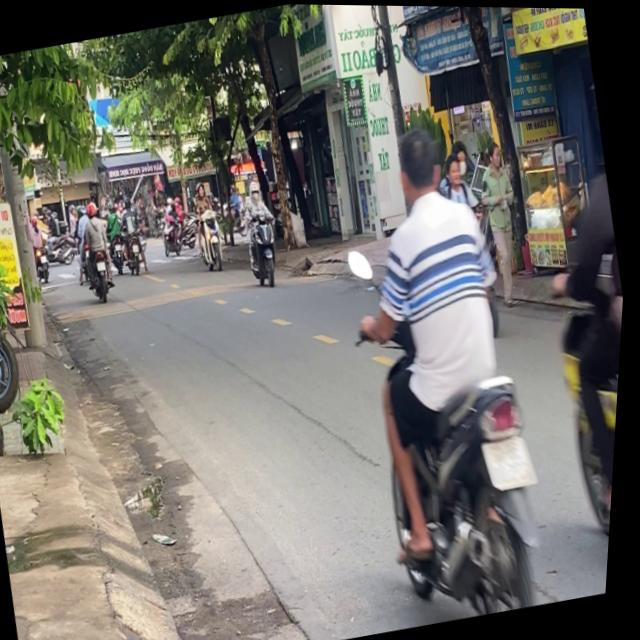licenseplate: (309, 103, 589, 628), (492, 55, 638, 594)
motorcyclist: (391, 120, 453, 206)
nohelmet: (484, 430, 546, 490)
